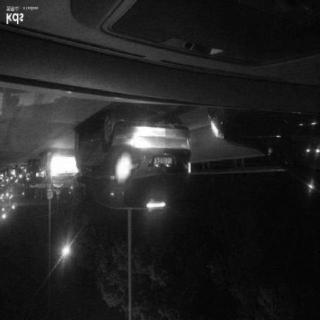other: (109, 149, 137, 187), (144, 194, 172, 217), (50, 155, 79, 173), (60, 239, 76, 260), (184, 158, 198, 180)
